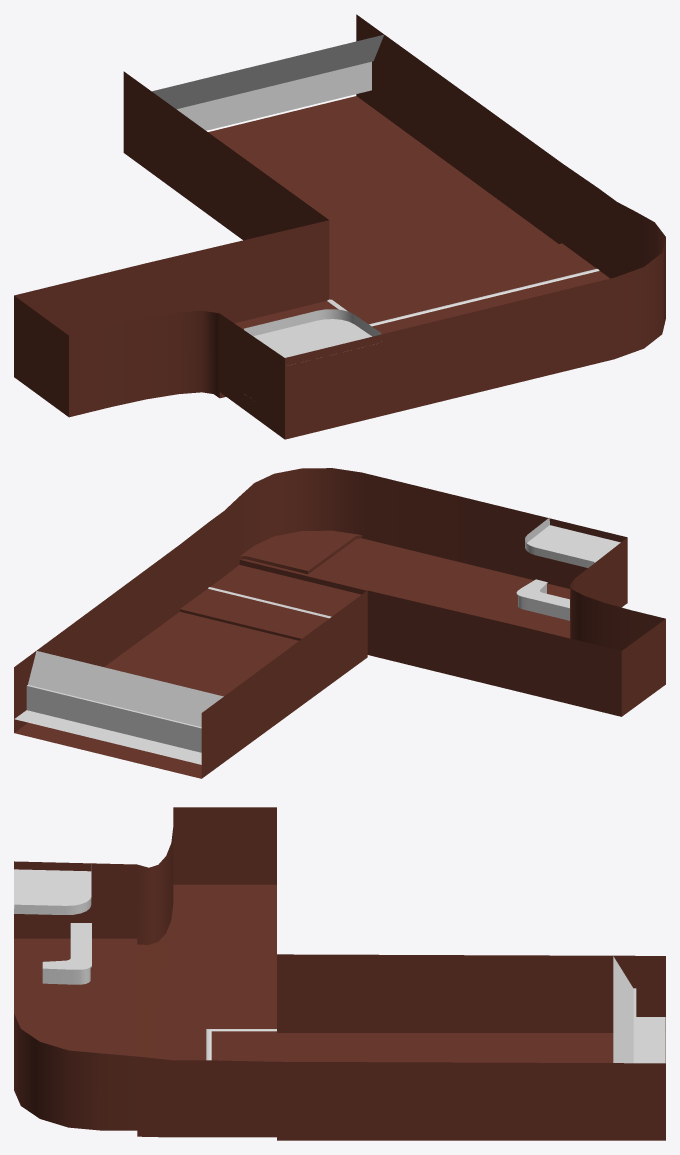
The model's file is Room.fbx.
The picture shows the model from 3 angles, top to bottom: view 1: azimuth 30°, elevation 25°; view 2: azimuth 150°, elevation 25°; view 3: azimuth 270°, elevation 25°; orthographic projection. The views are drawn at different scales.
Visible parts, largest first — view 1: Plane.015, Plane.025, Cube.021, Plane.022; view 2: Plane.015, Plane.025, Cube.021, Cube.009; view 3: Plane.015, Plane.025, Cube.021, Cube.009.
Boxes of the visible parts, left/top/right/bottom form: Plane.015: left=14, top=14, right=665, bottom=439; Plane.025: left=152, top=34, right=383, bottom=130; Cube.021: left=244, top=309, right=381, bottom=357; Plane.022: left=327, top=268, right=599, bottom=326; Plane.015: left=14, top=468, right=665, bottom=778; Plane.025: left=14, top=651, right=223, bottom=764; Cube.021: left=525, top=517, right=620, bottom=567; Cube.009: left=516, top=579, right=569, bottom=620; Plane.015: left=14, top=807, right=665, bottom=1140; Plane.025: left=613, top=956, right=665, bottom=1063; Cube.021: left=14, top=864, right=91, bottom=914; Cube.009: left=42, top=923, right=91, bottom=984.
Bounding box in the file's own units: 20.52 × 3.34 × 22.37.
